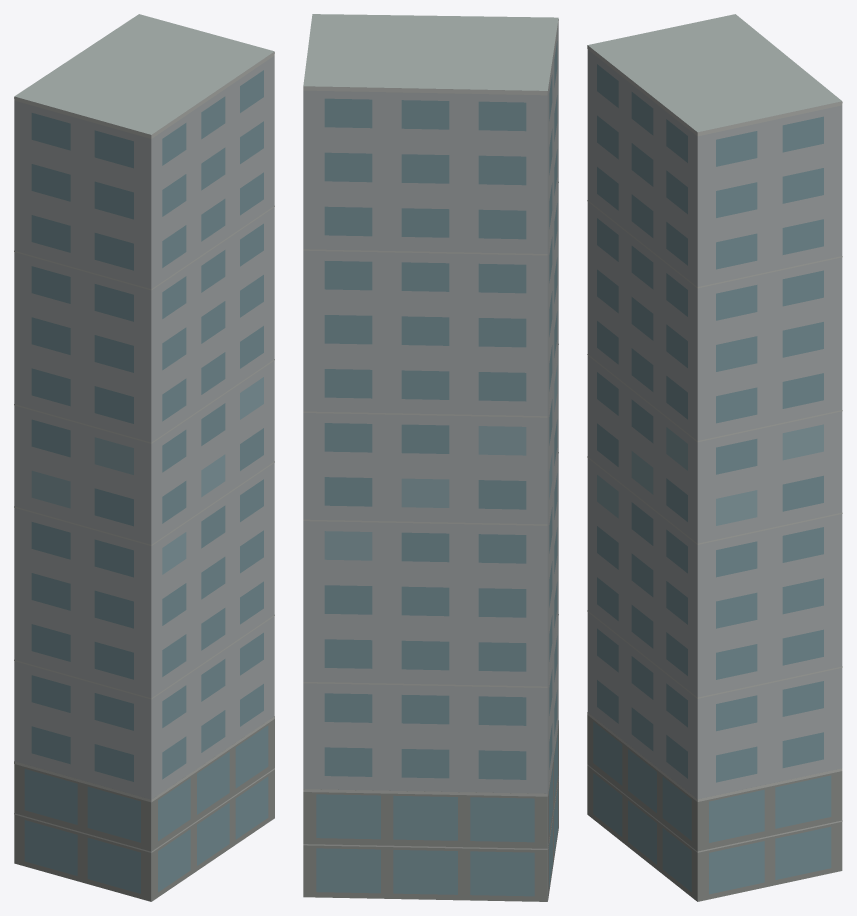
File: survey-upis-32700752.glb
3 renders of one model, left to right at view 1: azimuth 30°, elevation 25°; view 2: azimuth 150°, elevation 25°; view 3: azimuth 270°, elevation 25°, orthographic. The views are drawn at different scales.
Parts seen in each view (by area): view 1: survey-upis-32700752.tmp; view 2: survey-upis-32700752.tmp; view 3: survey-upis-32700752.tmp.
Part boxes in pixels (x1,y1,x2,y2): survey-upis-32700752.tmp: (14, 14, 274, 901); survey-upis-32700752.tmp: (303, 14, 558, 901); survey-upis-32700752.tmp: (587, 14, 842, 901).
Bounding box in the file's own units: 15.1 × 45.75 × 13.75.
